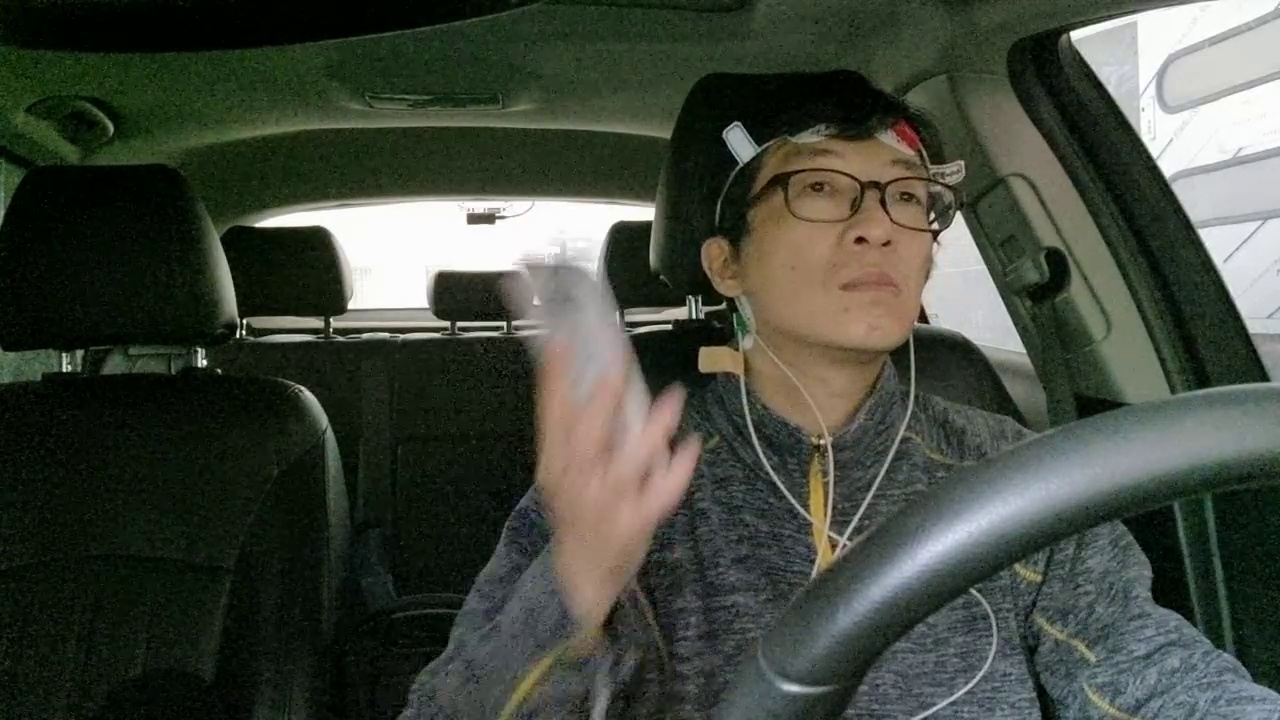phone: (469, 230, 721, 536)
